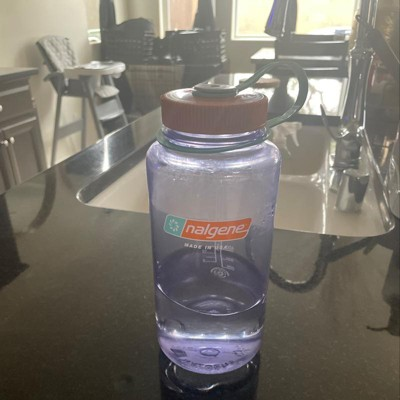bottle: (145, 60, 309, 376)
